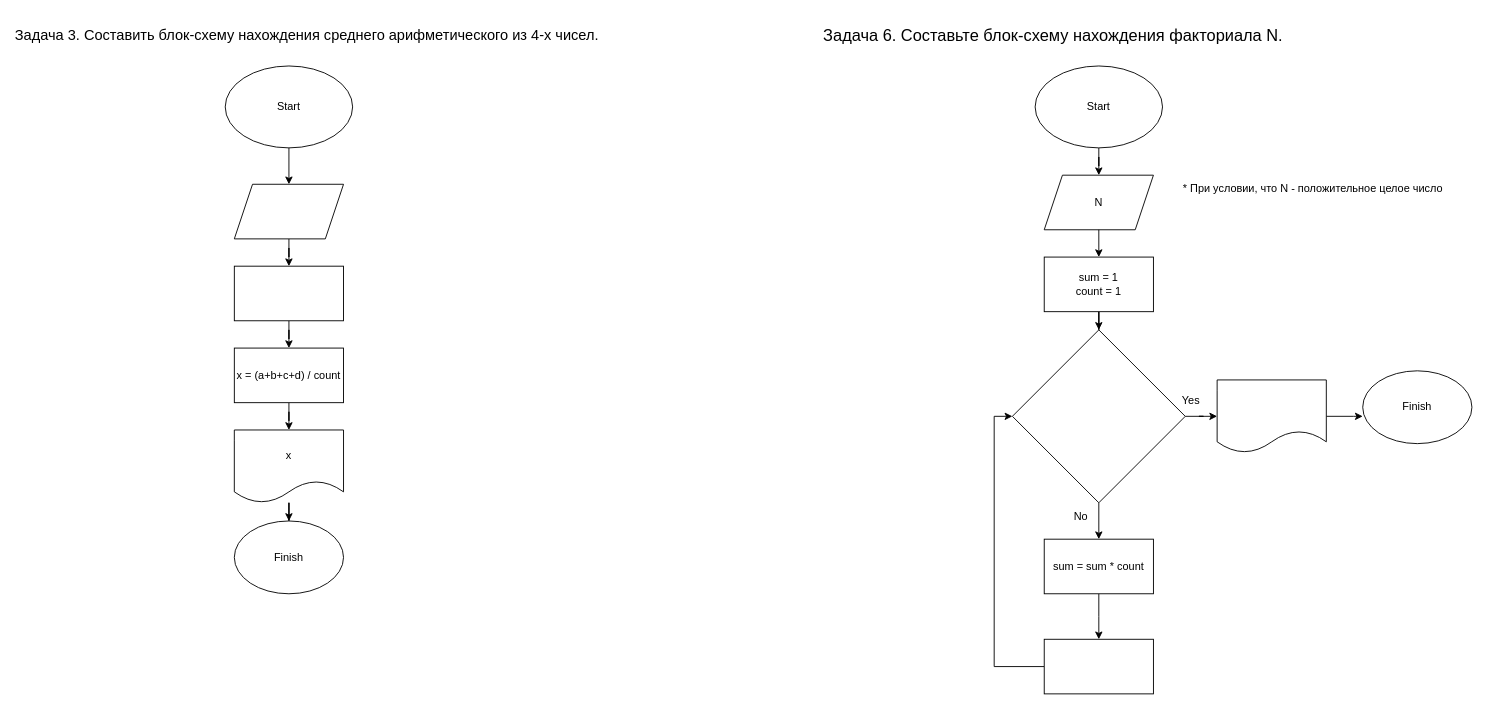
Some shapes in this 1489 by 710 pixel diagram are drawn without their labels. The shapes that lost their labels are listed below. From the top down, each one's centre as x and y in pixels, then its label:
At (288,211): "a, b, c, d".
At (288,293): "count = 4 x = 0".
At (1098,416): "count == N + 1".
At (1271,416): "sum".
At (1098,666): "count ++".
